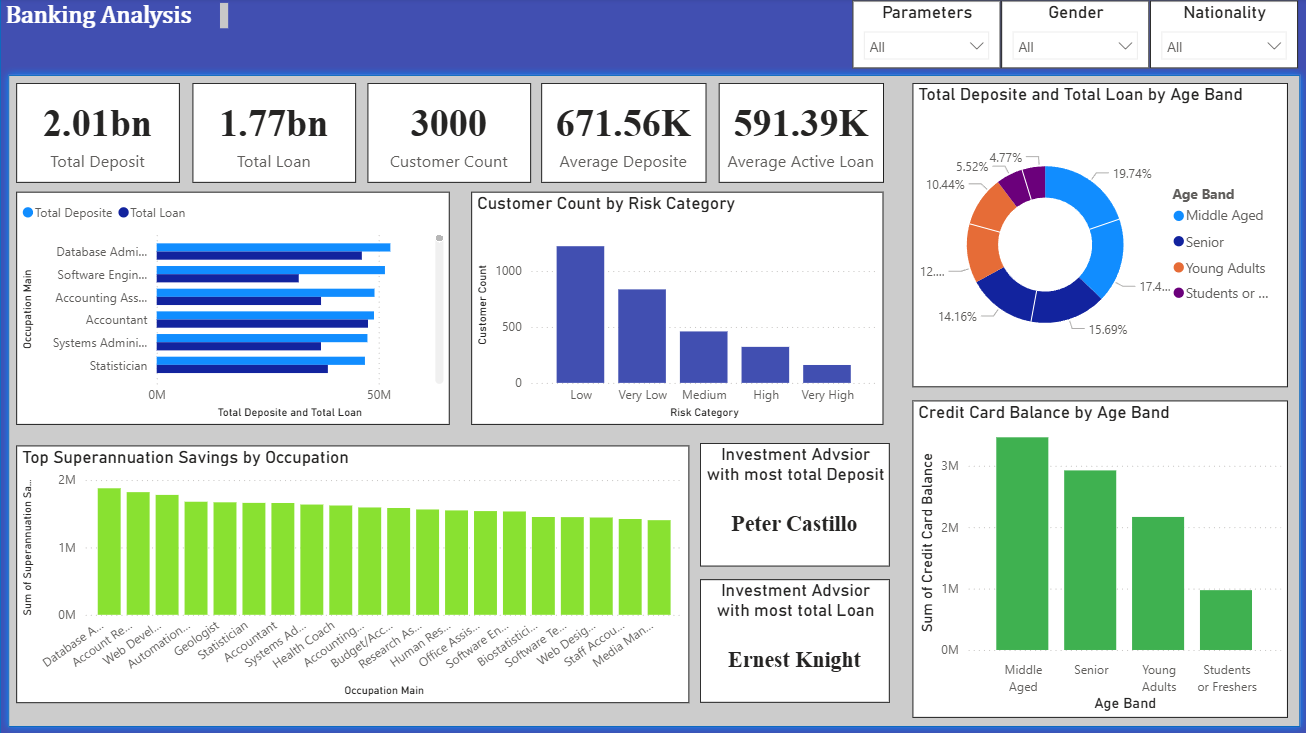

Layout of this report page (visuals, bound fields, positions):
{"tool":"powerbi","page":{"name":"Dashboard","canvas":[1280,720],"ordinal":0},"visuals":[{"type":"shape","box":[0,0,1280.3,720.2],"z":0},{"type":"shape","box":[0,66.8,1280,653.9],"z":1000},{"type":"textbox","box":[0,0,228.2,36.2],"z":2000},{"type":"card","fields":{"Values":["Measure.Total Deposite"]},"box":[15.3,83.5,160,97.4],"z":3000},{"type":"slicer","title":"Nationality","fields":{"Values":["Banking.Nationality"]},"box":[1125.6,2.8,144.7,66.8],"z":4000},{"type":"slicer","title":"Gender","fields":{"Values":["gender.Gender"]},"box":[979.5,2.8,144.7,66.8],"z":5000},{"type":"slicer","title":"Parameters","fields":{"Values":["Parameter 2.Parameter"]},"box":[833.4,2.8,144.7,66.8],"z":6000},{"type":"card","fields":{"Values":["Measure.Total Loan"]},"box":[187.8,83.5,160,97.4],"z":7000},{"type":"card","fields":{"Values":["Measure.Customer Count"]},"box":[359,83.5,160,97.4],"z":8000},{"type":"card","fields":{"Values":["Measure.Average Deposite"]},"box":[530.1,83.5,161.4,97.4],"z":9000},{"type":"card","fields":{"Values":["Measure.Average Active Loan"]},"box":[702.6,83.5,161.4,97.4],"z":10000},{"type":"donutChart","fields":{"Y":["Measure.Total Deposite","Measure.Total Loan"],"Category":["Banking.Age Band"]},"box":[893.2,83.5,367.3,297.7],"z":11000},{"type":"clusteredColumnChart","title":"Credit Card Balance by Age Band","fields":{"Y":["Sum(Banking.Credit Card Balance)"],"Category":["Banking.Age Band"]},"box":[893.2,393.7,367.3,310.3],"z":12000},{"type":"clusteredBarChart","title":"Total Bank Loan by Occupation","fields":{"Y":["Measure.Total Deposite","Measure.Total Loan"],"Category":["Banking.Occupation Main"]},"box":[15.3,189.2,424.3,228.2],"z":13000},{"type":"clusteredColumnChart","fields":{"Y":["Measure.Customer Count"],"Category":["Banking.Custom"]},"box":[460.5,189.2,403.5,228.2],"z":14000},{"type":"clusteredColumnChart","title":"Top Superannuation Savings by Occupation","fields":{"Category":["Banking.Occupation Main"],"Y":["Sum(Banking.Superannuation Savings)"]},"box":[15.3,438.3,658.1,251.8],"z":15000},{"type":"card","fields":{"Values":["Measure.Total Deposite"]},"box":[692.9,438.3,171.1,107.1],"z":16000},{"type":"card","fields":{"Values":["Measure.Total Loan"]},"box":[692.9,549.6,171.1,104.3],"z":17000}]}

Visuals, with their boxes in screenshot pixels (x1, y1, x2, y2), scaled from the page's 1280x720 canvas onto the 1306x733 screenshot:
shape: (0, 0, 1305, 732)
shape: (0, 68, 1305, 732)
textbox: (0, 0, 233, 37)
card - Measure.Total Deposite: (16, 85, 179, 184)
"Nationality" slicer: (1148, 3, 1296, 71)
"Gender" slicer: (999, 3, 1147, 71)
"Parameters" slicer: (850, 3, 998, 71)
card - Measure.Total Loan: (192, 85, 355, 184)
card - Measure.Customer Count: (366, 85, 530, 184)
card - Measure.Average Deposite: (541, 85, 706, 184)
card - Measure.Average Active Loan: (717, 85, 882, 184)
donutChart - Measure.Total Deposite x Measure.Total Loan: (911, 85, 1286, 388)
"Credit Card Balance by Age Band" clusteredColumnChart: (911, 401, 1286, 717)
"Total Bank Loan by Occupation" clusteredBarChart: (16, 193, 449, 425)
clusteredColumnChart - Measure.Customer Count x Banking.Custom: (470, 193, 882, 425)
"Top Superannuation Savings by Occupation" clusteredColumnChart: (16, 446, 687, 703)
card - Measure.Total Deposite: (707, 446, 882, 555)
card - Measure.Total Loan: (707, 560, 882, 666)
